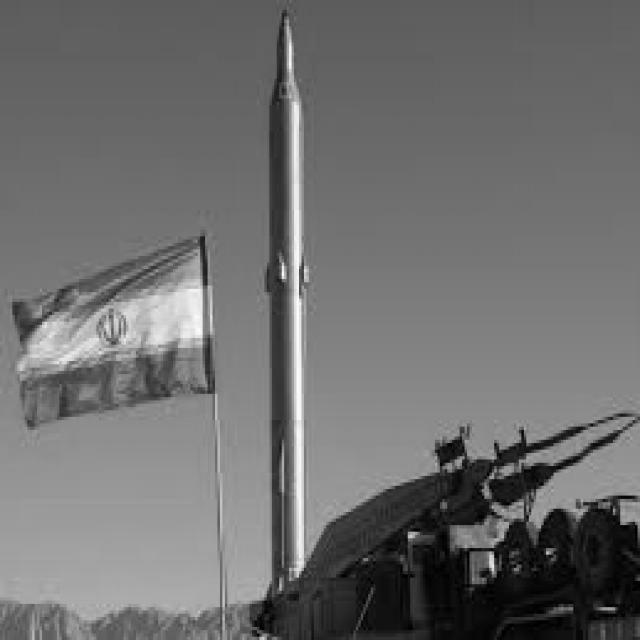missile: (265, 14, 311, 589)
